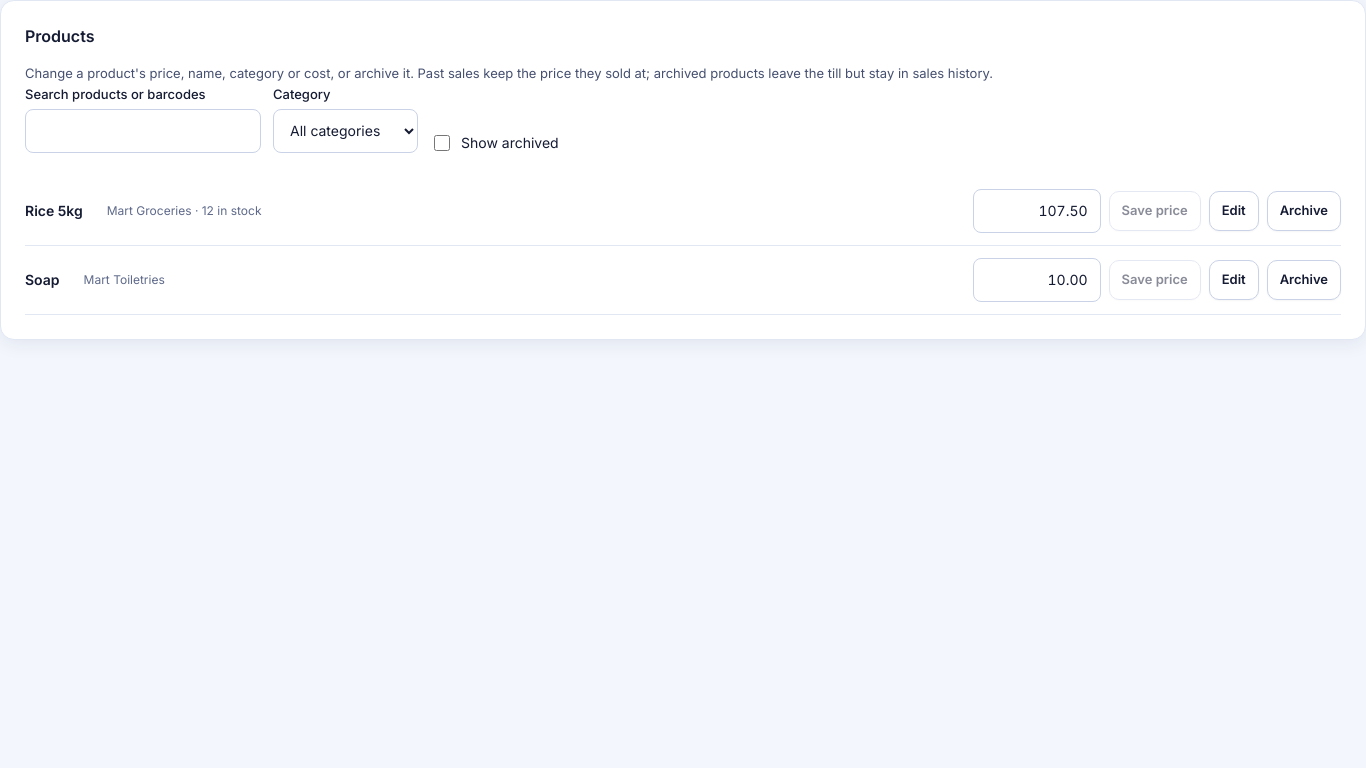
Test: <ProductsCard> › edits name, category and cost in a dialog and sends only what changed
Click the button with aria-label "Edit Rice 5kg" at (1234, 211), box [1209, 191, 1259, 231]
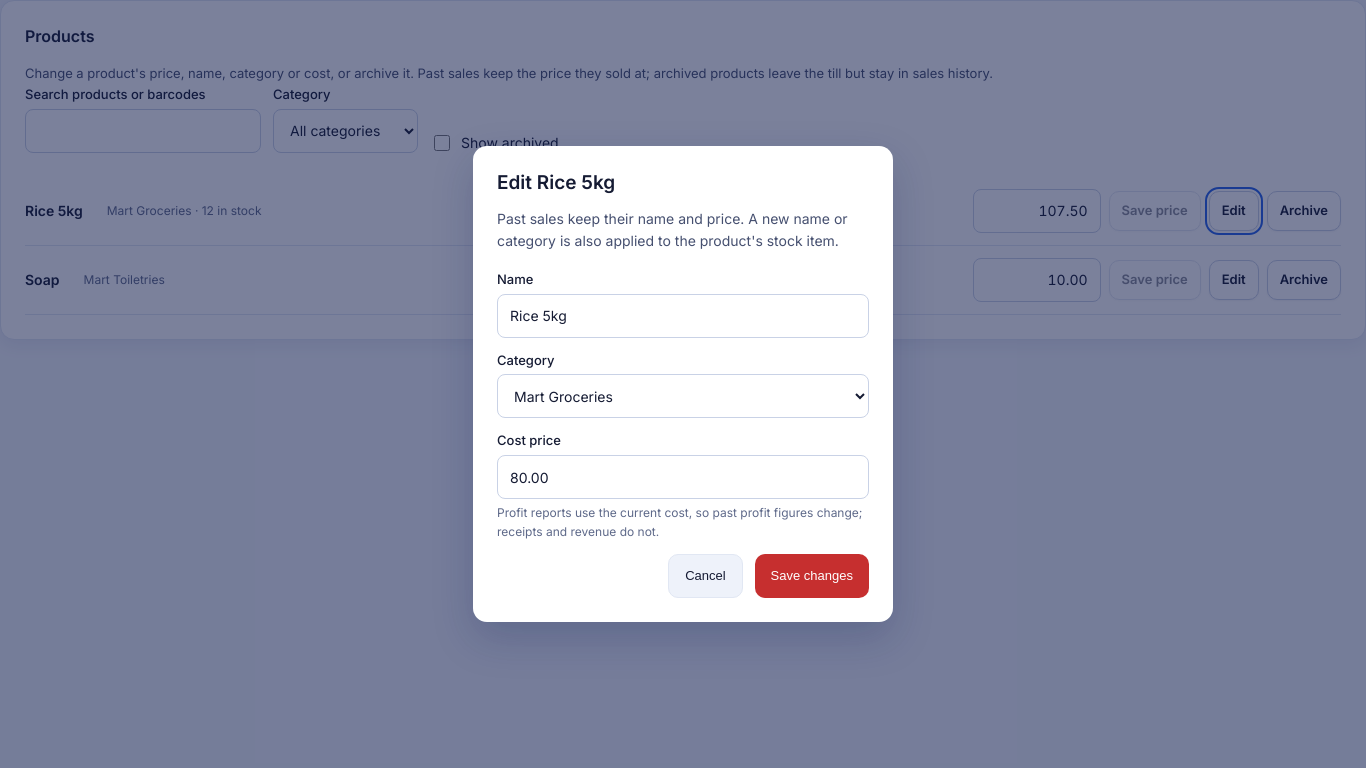
Replace the text in the field labelled "Name" with "Rice 10kg" at (683, 316), box [497, 294, 869, 338]
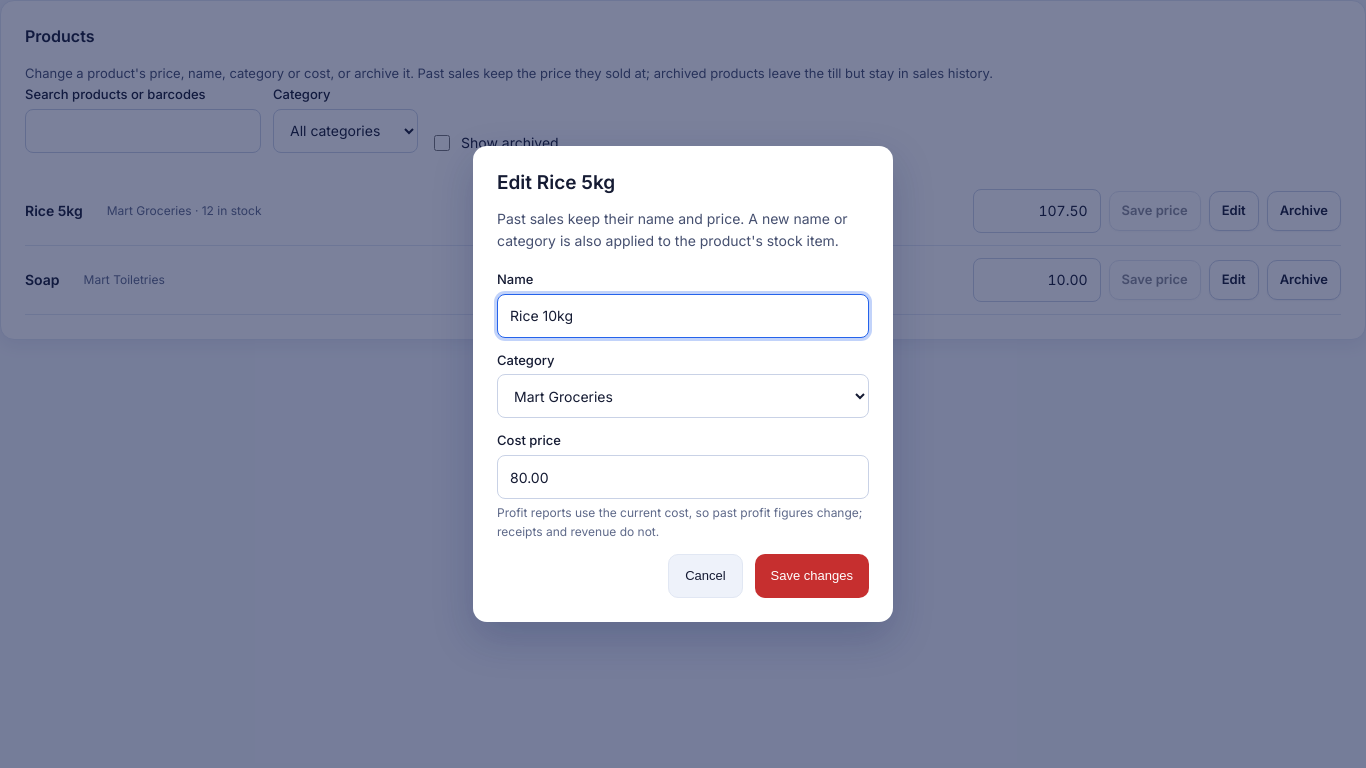
Select "Mart Toiletries" in the dropdown labelled "Category" at (683, 396), box [497, 374, 869, 418]
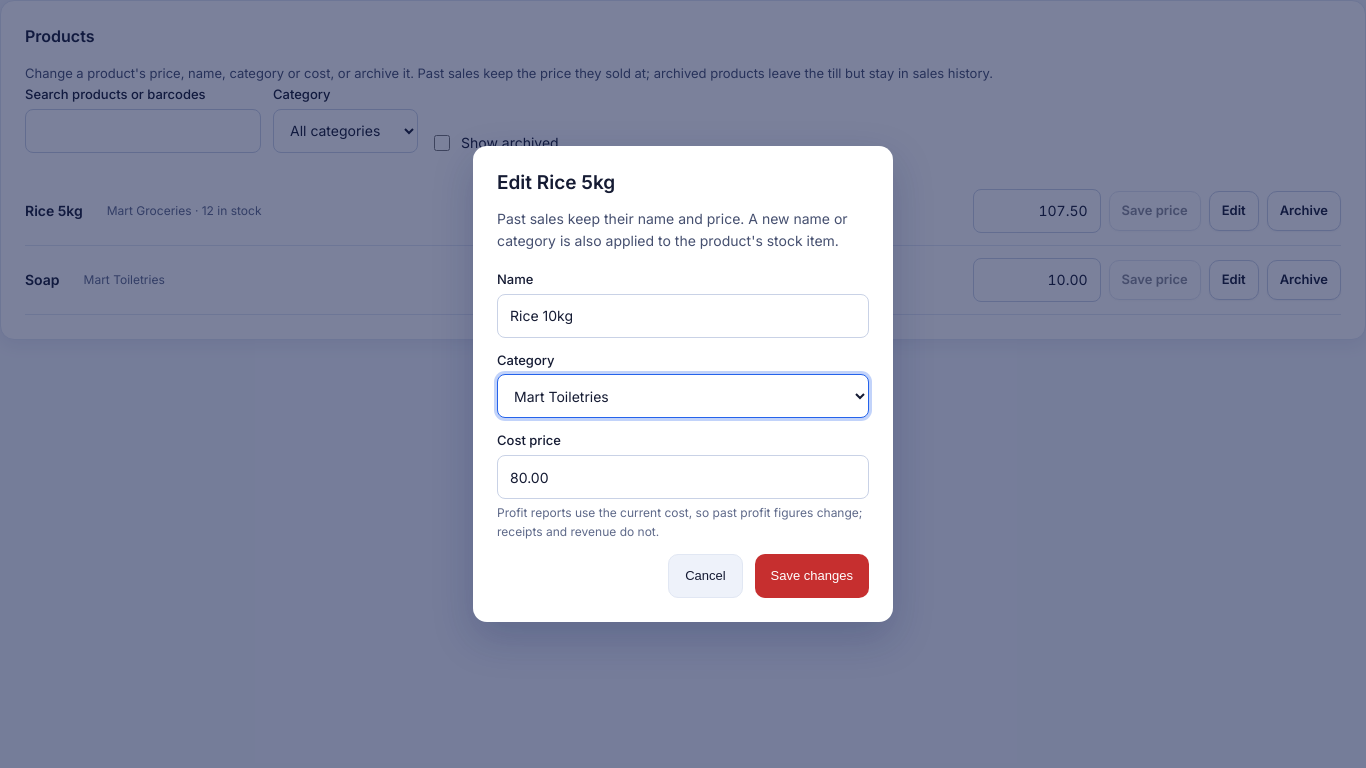
Replace the text in the field labelled "Cost price" with "85.00" at (683, 477), box [497, 455, 869, 499]
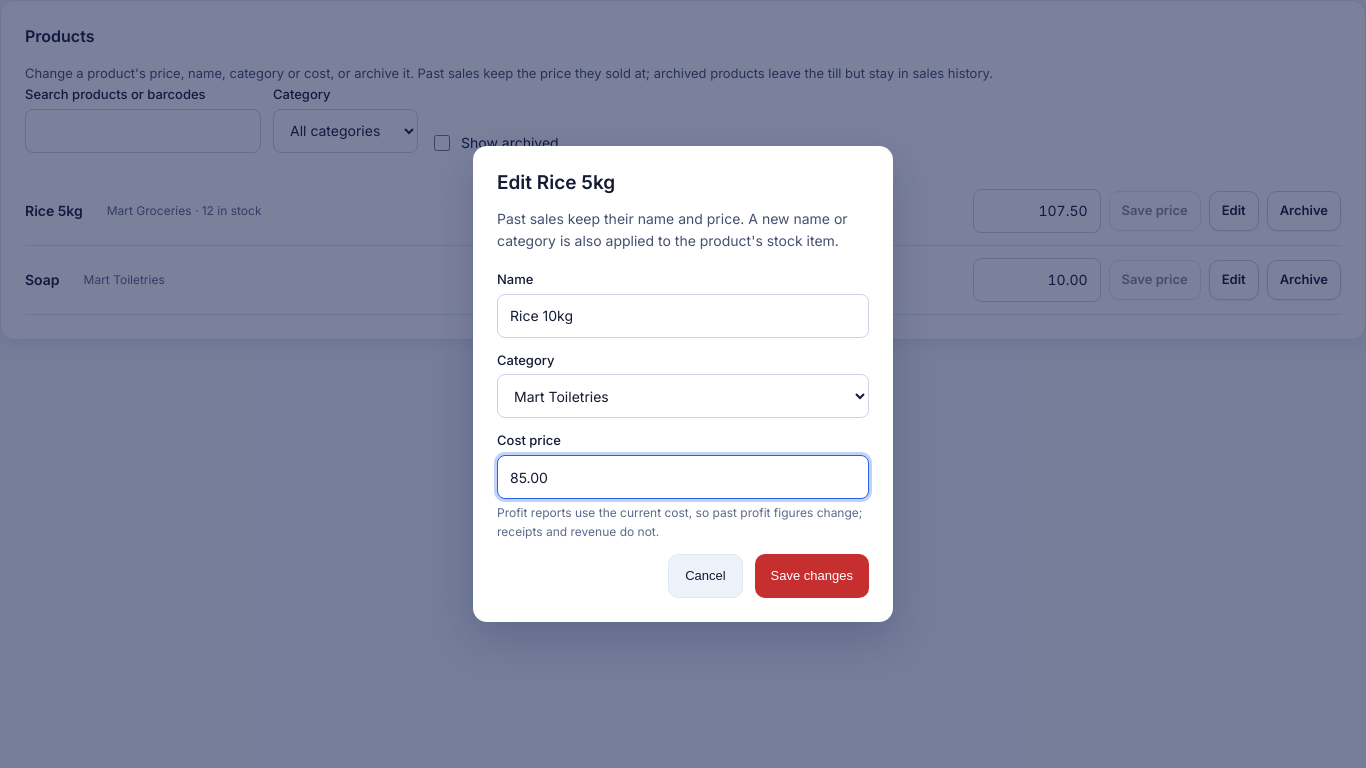
Click the button "Save changes" at (812, 576), box [755, 554, 869, 598]
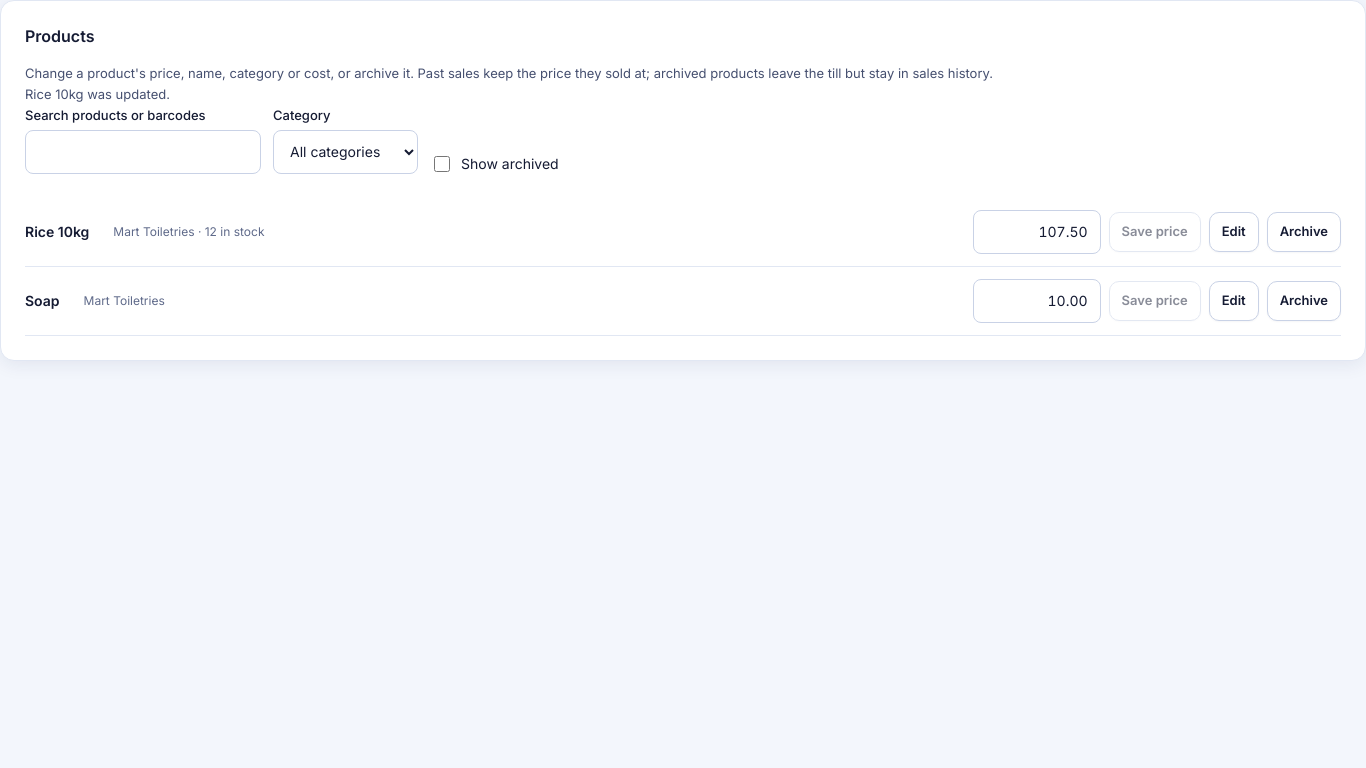
Check: the text "Rice 10kg was updated." is shown, box [25, 86, 170, 102]
